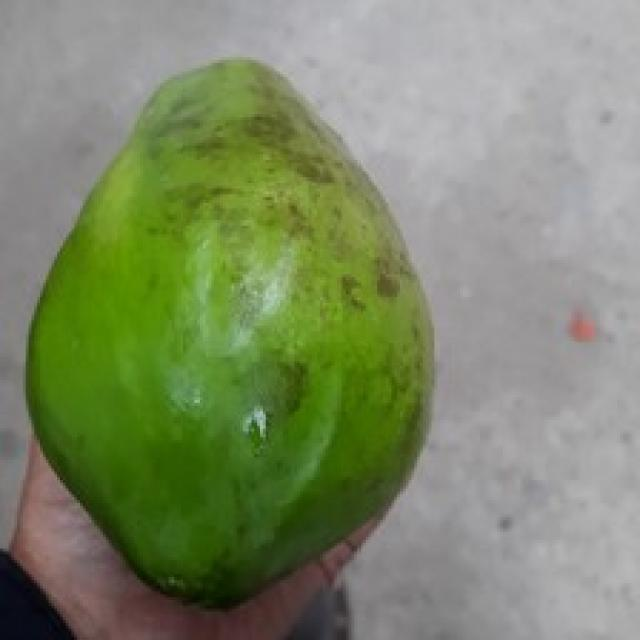Pepaya unrippen: (32, 47, 441, 614)
